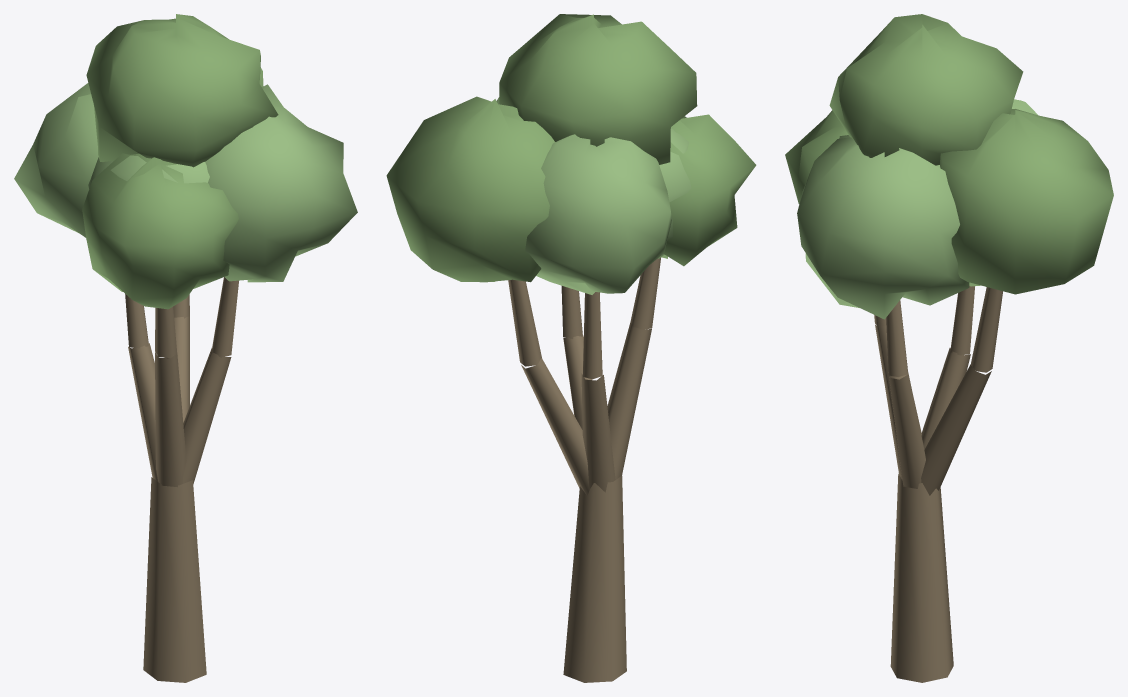
The model's file is elm.glb.
3 views of the same model, side by side, from view 1: azimuth 30°, elevation 25°; view 2: azimuth 150°, elevation 25°; view 3: azimuth 270°, elevation 25° (orthographic).
Parts seen in each view (by area): view 1: elm; view 2: elm; view 3: elm.
Part boxes in pixels (<box>): elm: <box>14,14,357,682</box>; elm: <box>386,14,756,682</box>; elm: <box>785,14,1113,682</box>.
Bounding box in the file's own units: 26.02 × 63.8 × 29.46.
